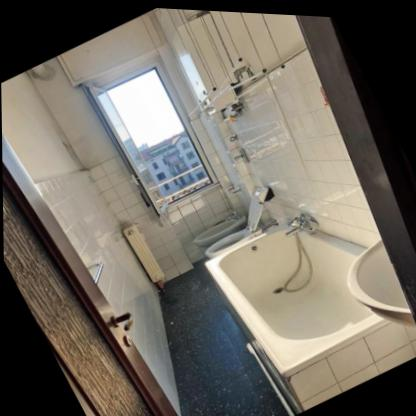Window: (79, 51, 223, 222)
